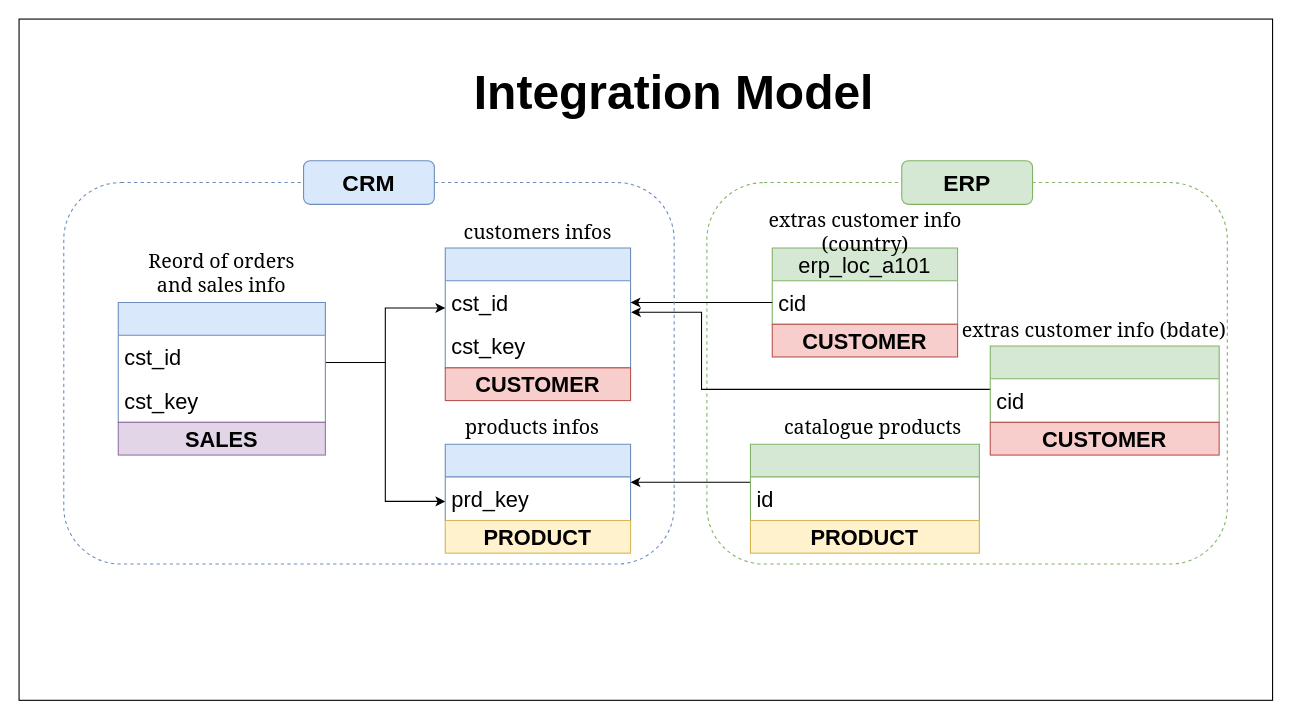
Some shapes in this 1292 by 719 pixel diagram are drawn without their labels. The box of each missing label's shape, as (x1, y1, x2, y2) in pixels:
crm_cust_info: (444, 247, 631, 368)
crm_prd_info: (444, 443, 631, 520)
crm_sales_details: (117, 301, 325, 422)
erp_cust_az12: (989, 345, 1219, 422)
erp_px_cat_g1v2: (749, 443, 979, 520)
